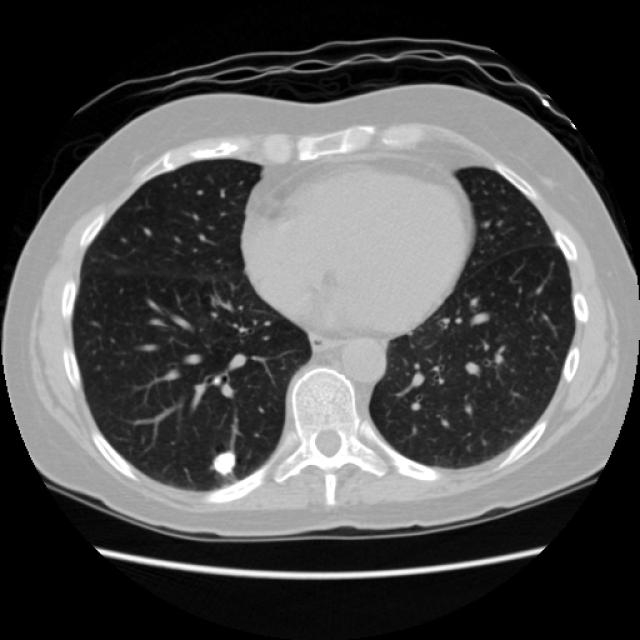nodule: (199, 438, 249, 488)
